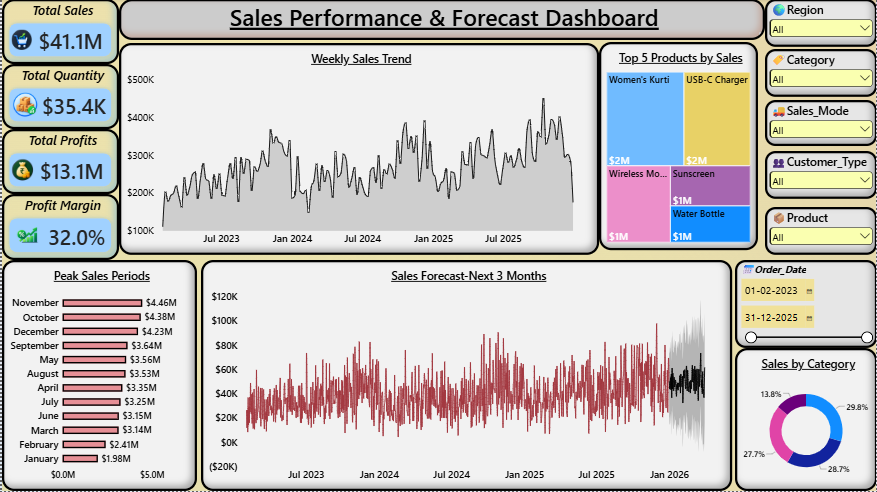

What the dashboard file says about the page in this screenshot:
{"tool":"powerbi","page":{"name":"Page 1","canvas":[1920,1080],"ordinal":0},"visuals":[{"type":"cardVisual","title":"Profit Margin","fields":{"Data":["retail_sales_clean data.Profit Margin"]},"box":[0,428,256.8,144.9],"z":0},{"type":"cardVisual","title":"Total Sales","fields":{"Data":["retail_sales_clean data.Total Sales"]},"box":[0,0,256.8,142.7],"z":1000},{"type":"cardVisual","title":"Total Profits","fields":{"Data":["retail_sales_clean data.Total Profits"]},"box":[0,285.4,256.8,142.7],"z":2000},{"type":"cardVisual","title":"Total Quantity","fields":{"Data":["retail_sales_clean data.Total Quantity"]},"box":[0,142.7,256.8,142.7],"z":3000},{"type":"textbox","title":"Sales Performance & Forecast Dashboard","box":[256.8,0,1418,90],"z":4000},{"type":"slicer","fields":{"Values":["retail_sales_clean data.Order_Date"]},"box":[1609,572.9,311.7,193.2],"z":5000},{"type":"slicer","fields":{"Values":["retail_sales_clean data.Category"]},"box":[1674.1,109.8,245.9,105.4],"z":6000},{"type":"slicer","fields":{"Values":["retail_sales_clean data.Product_Name"]},"box":[1674.9,456.6,245.9,105.4],"z":7000},{"type":"slicer","fields":{"Values":["retail_sales_clean data.Region"]},"box":[1674.9,0,245.9,105.4],"z":8000},{"type":"slicer","fields":{"Values":["retail_sales_clean data.Customer_Type"]},"box":[1674.9,333.7,245.9,105.4],"z":9000},{"type":"slicer","fields":{"Values":["retail_sales_clean data.Sales_Channel"]},"box":[1674.9,221.7,245.9,101],"z":10000},{"type":"pieChart","title":"Sales by Category","fields":{"Category":["retail_sales_clean data.Category"],"Y":["retail_sales_clean data.Total Sales"]},"box":[1609,766.1,311.7,313.9],"z":11000},{"type":"treemap","title":"Top 5 Products by Sales","fields":{"Group":["retail_sales_clean data.Product_Name"],"Values":["retail_sales_clean data.Total Sales"]},"box":[1310.5,94.4,349,456.6],"z":12000},{"type":"clusteredBarChart","title":"Peak Sales Periods","fields":{"Category":["retail_sales_clean data.Month name"],"Y":["retail_sales_clean data.Total Sales"]},"box":[0,572.9,428,507.1],"z":13000},{"type":"lineChart","title":"Sales Forecast-Next 3 Months","fields":{"Y":["retail_sales_clean data.Total Sales"],"Category":["retail_sales_clean data.Order_Date"]},"box":[436.8,572.9,1165.6,507.1],"z":14000},{"type":"lineChart","title":" Weekly Sales Trend","fields":{"Category":["retail_sales_clean data.Week_Start"],"Y":["retail_sales_clean data.Total Sales"]},"box":[256.8,96.6,1053.7,465.4],"z":15000}]}

Visuals, with their boxes in screenshot pixels (x1, y1, x2, y2), scaled from the page's 1920x1080 canvas onto the 877x492 screenshot:
"Profit Margin" cardVisual: <box>0,195,117,261</box>
"Total Sales" cardVisual: <box>0,0,117,65</box>
"Total Profits" cardVisual: <box>0,130,117,195</box>
"Total Quantity" cardVisual: <box>0,65,117,130</box>
"Sales Performance & Forecast Dashboard" textbox: <box>117,0,765,41</box>
slicer - retail_sales_clean data.Order_Date: <box>735,261,876,349</box>
slicer - retail_sales_clean data.Category: <box>765,50,876,98</box>
slicer - retail_sales_clean data.Product_Name: <box>765,208,876,256</box>
slicer - retail_sales_clean data.Region: <box>765,0,876,48</box>
slicer - retail_sales_clean data.Customer_Type: <box>765,152,876,200</box>
slicer - retail_sales_clean data.Sales_Channel: <box>765,101,876,147</box>
"Sales by Category" pieChart: <box>735,349,876,491</box>
"Top 5 Products by Sales" treemap: <box>599,43,758,251</box>
"Peak Sales Periods" clusteredBarChart: <box>0,261,195,491</box>
"Sales Forecast-Next 3 Months" lineChart: <box>200,261,732,491</box>
" Weekly Sales Trend" lineChart: <box>117,44,599,256</box>
